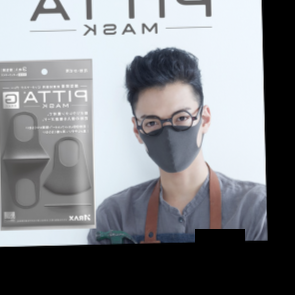with_mask: (135, 105, 201, 173)
